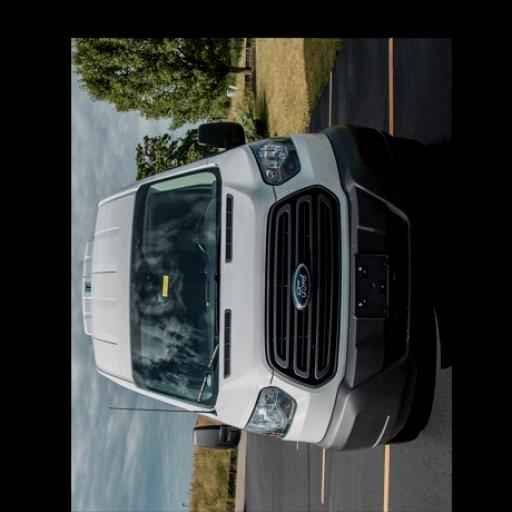van: (80, 116, 431, 450)
